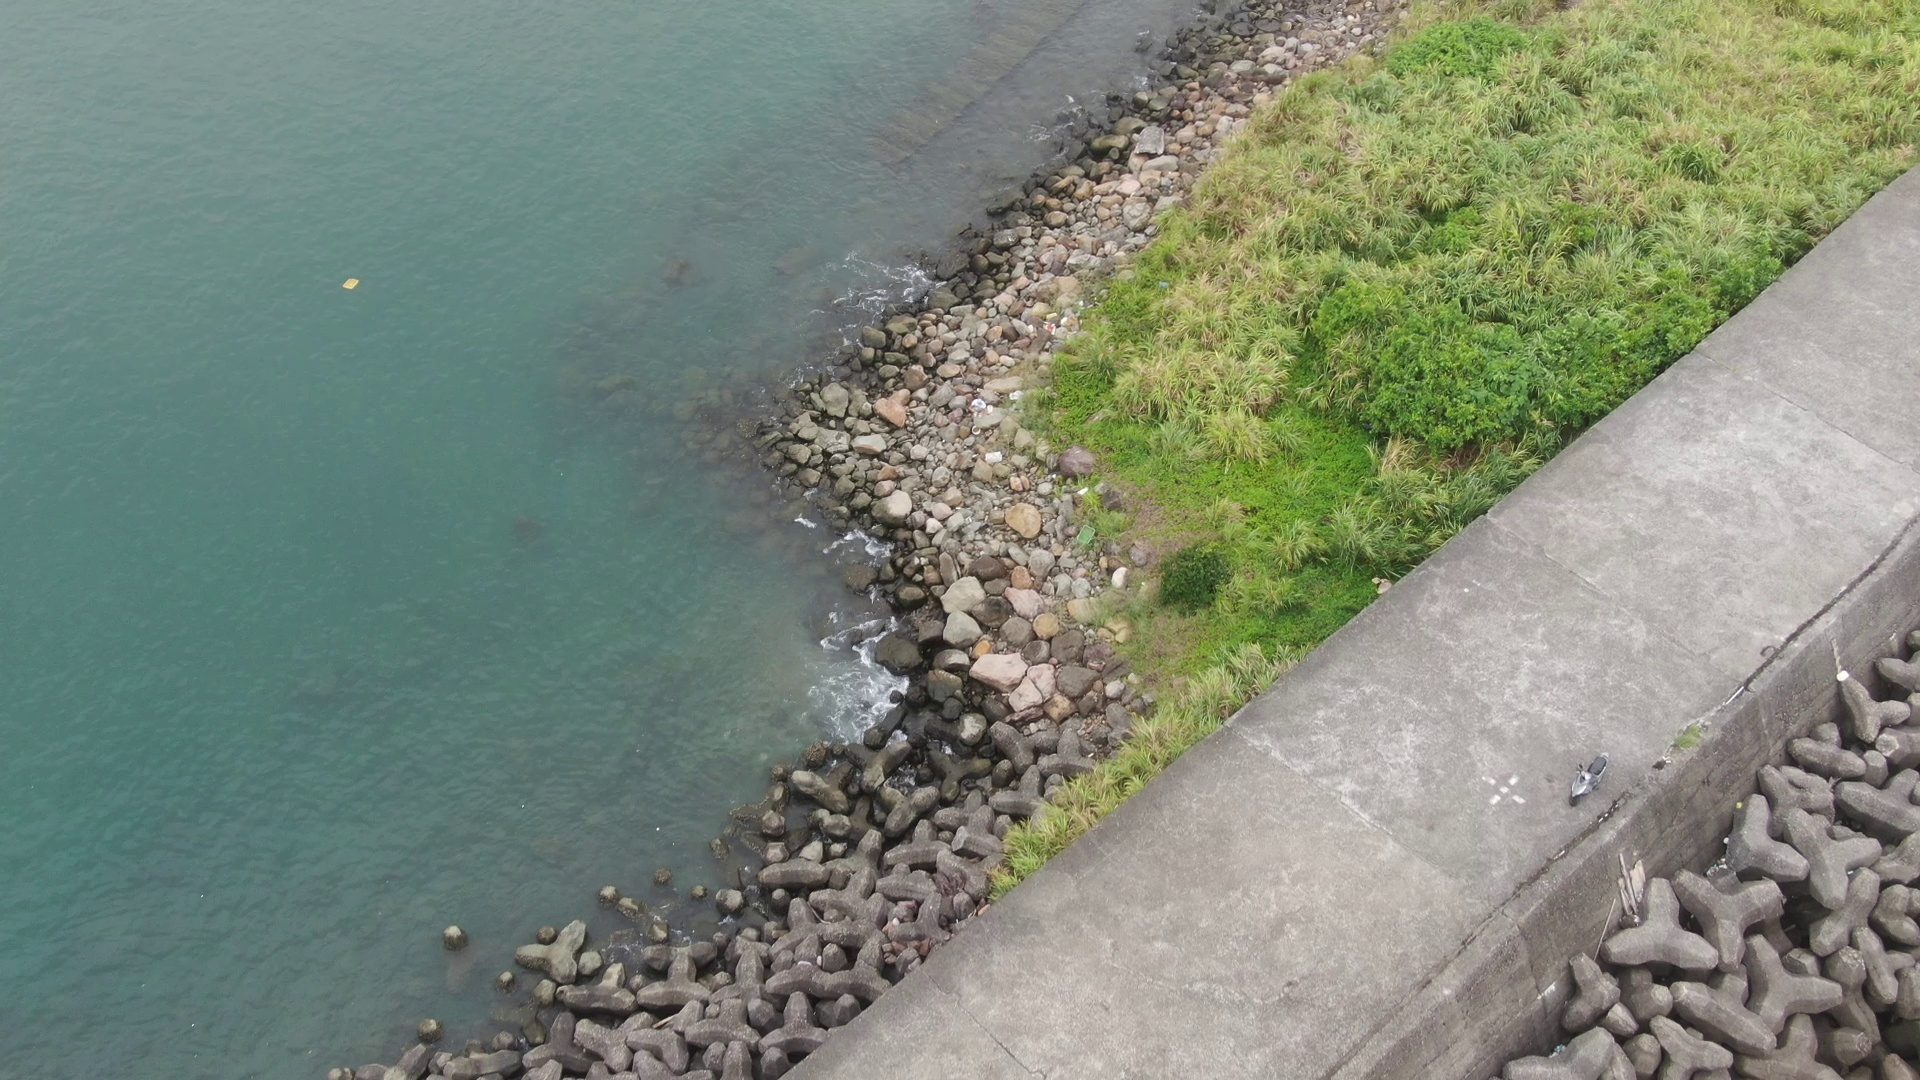garbage: (332, 266, 363, 297), (1830, 659, 1853, 695)
